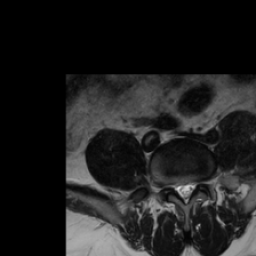CCS_normal: (181, 173, 188, 209)
LFS_severe_stenosis: (196, 171, 205, 191)
LLS_normal: (188, 173, 196, 202)
RFS_severe_stenosis: (164, 173, 172, 195)
RLS_normal: (172, 175, 181, 200)
